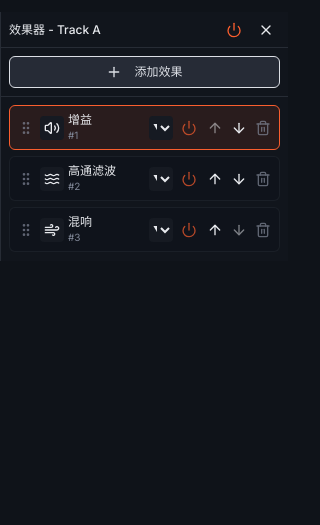
EffectPanel parameter edits and newly added effects › cancels stale add-button focus after explicit selection when the add returns null
Click the button "添加效果". click: (144, 72)
box: [9,56,280,88]
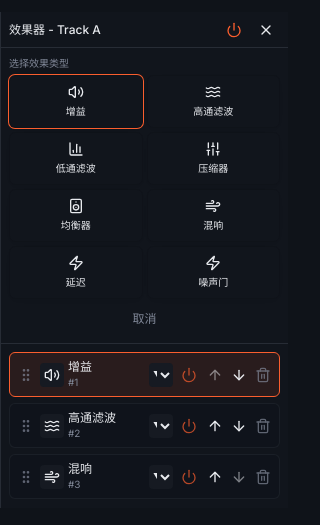
Click the button "低通滤波". click: (76, 158)
box: [9,132,142,185]
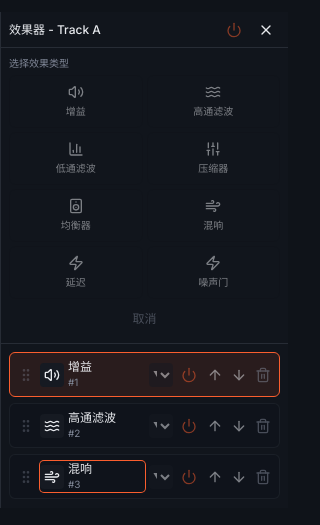
Click the button with aria-label "打开混响参数". click: (92, 476)
box: [40,461,145,492]
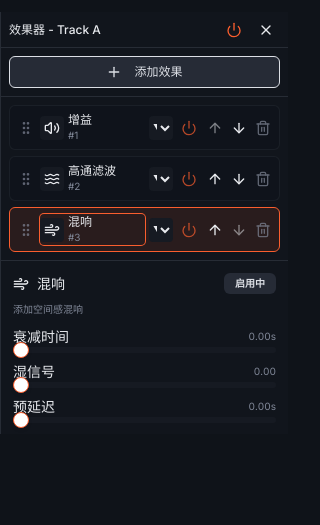
Result: the text "选择效果类型" is gone
Result: the button "添加效果" is enabled at [9,56,280,88]
